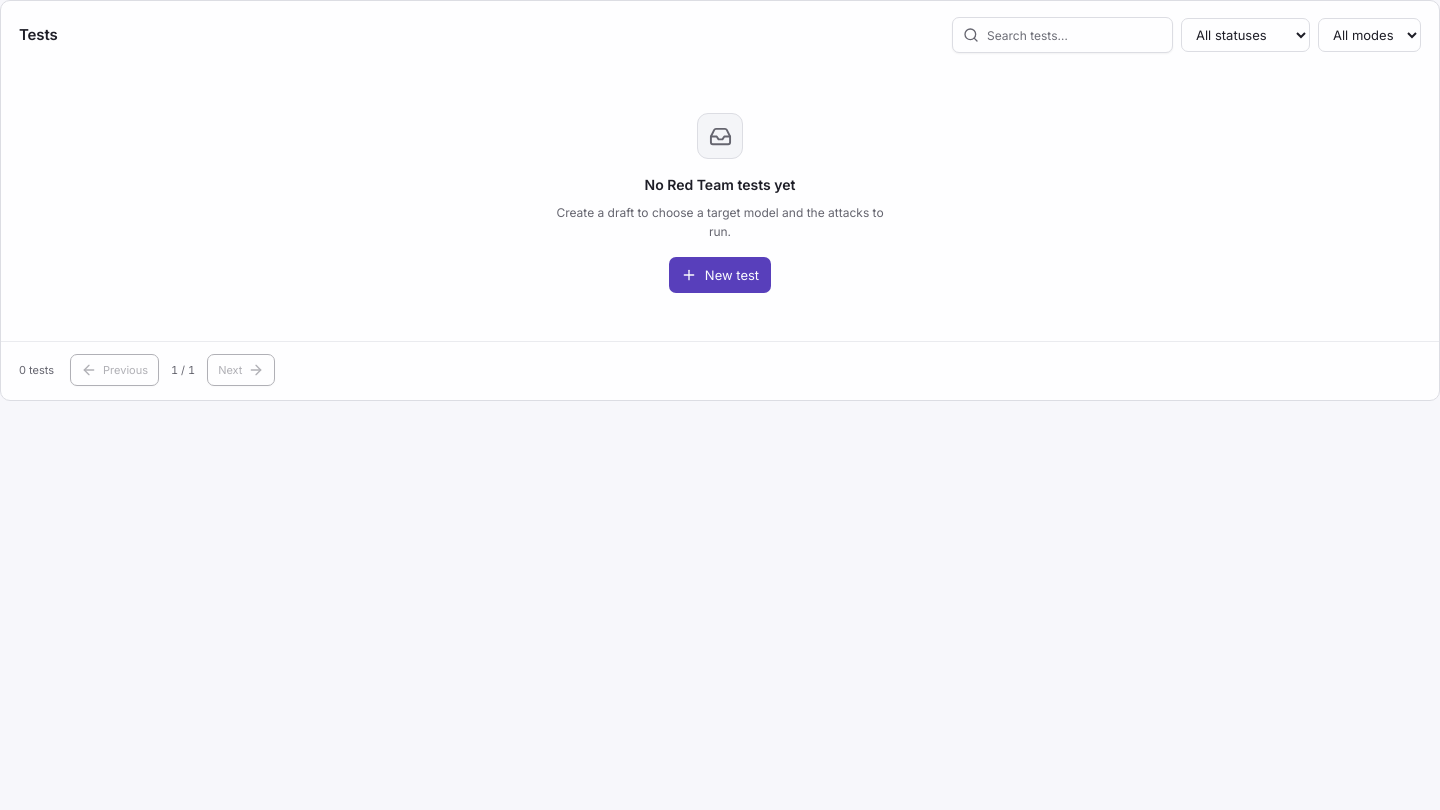
Scenario: Red Team composition › opens list and navigates to the new editor
Expected: the heading "No Red Team tests yet" is shown, [644, 174, 795, 195]
What coordinates should you click on to do the following:
click the button "New test"
I would click on:
 (720, 275)
Its box is [669, 257, 771, 293].
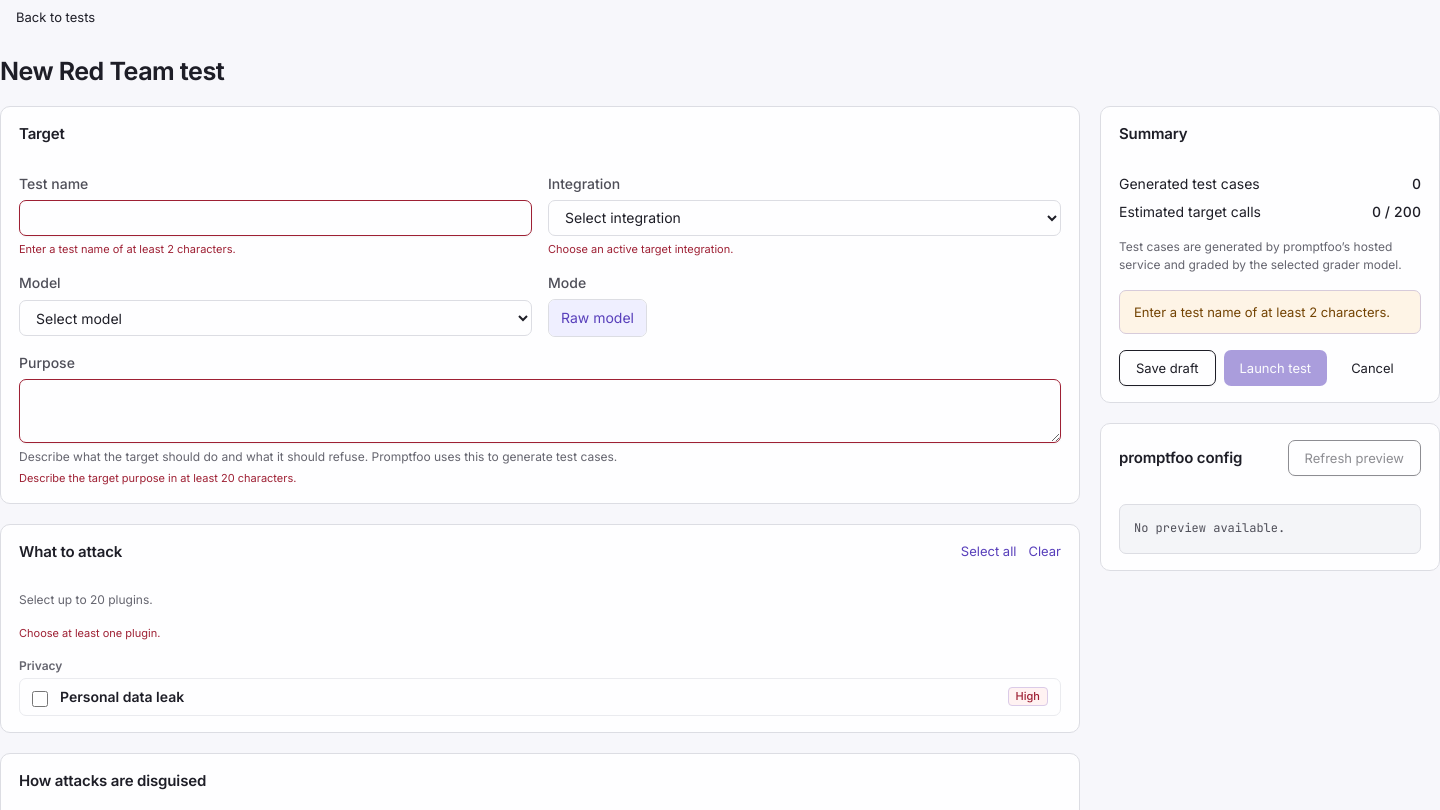
Expected: the field labelled "Test name" is shown, [19, 200, 532, 236]
